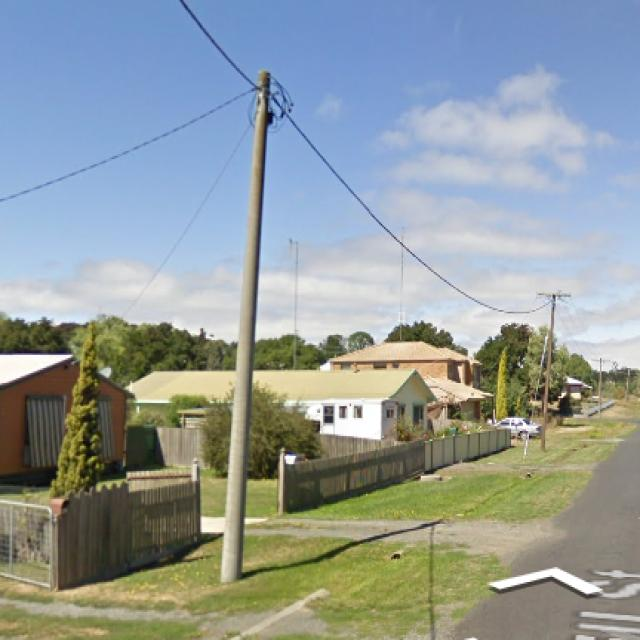concrete-pole: (220, 70, 271, 586)
crossarm: (536, 291, 570, 301), (592, 358, 609, 363)
timber-pole: (540, 294, 556, 450), (598, 359, 602, 419)
